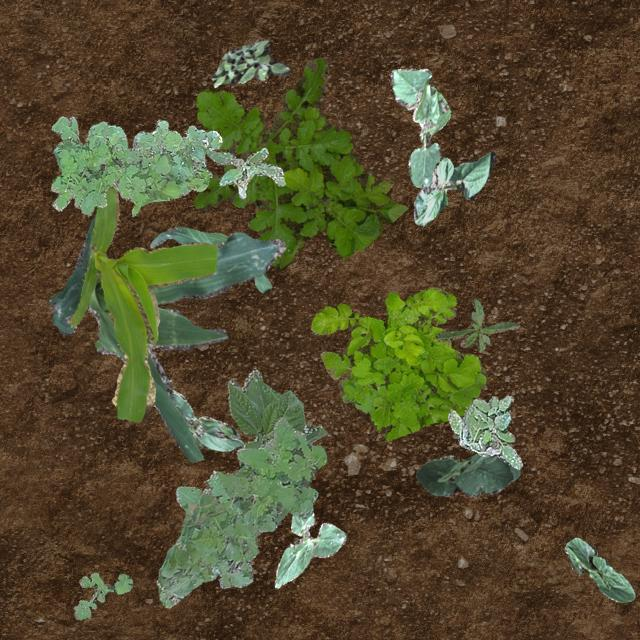crop: (48, 216, 286, 462), (68, 187, 216, 420), (227, 368, 326, 522), (148, 226, 270, 292), (412, 150, 494, 226), (274, 512, 346, 586), (564, 536, 634, 602), (170, 388, 242, 451), (416, 452, 518, 496), (390, 68, 450, 136), (408, 82, 440, 188)
weed: (192, 55, 406, 268), (156, 416, 326, 606), (309, 286, 486, 439), (51, 116, 220, 214), (446, 394, 522, 468), (434, 298, 518, 350), (206, 146, 284, 198), (210, 38, 290, 86), (72, 572, 132, 618)
